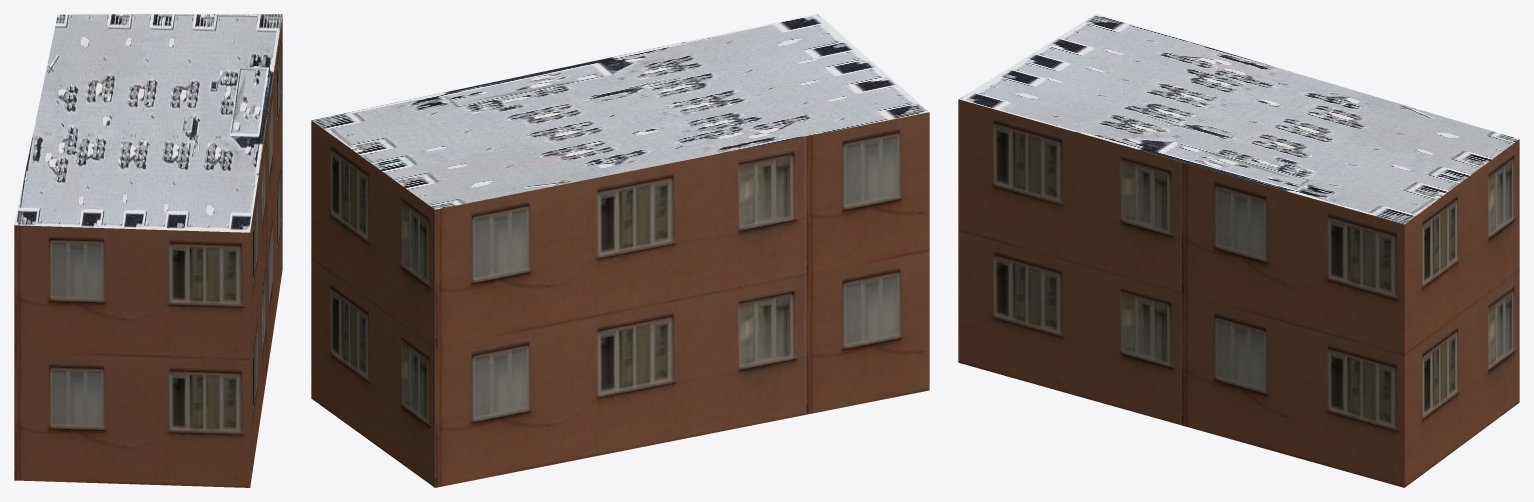
File: ResTex__4978.fbx
The picture shows the model from 3 angles, left to right: view 1: azimuth 30°, elevation 25°; view 2: azimuth 150°, elevation 25°; view 3: azimuth 270°, elevation 25°; orthographic projection. The views are drawn at different scales.
Visible parts, largest first — view 1: CityEngineMaterial_20_m, CityEngineMaterial_8_m; view 2: CityEngineMaterial_20_m, CityEngineMaterial_8_m; view 3: CityEngineMaterial_20_m, CityEngineMaterial_8_m.
Part boxes in pixels (left/top/right/bottom): CityEngineMaterial_20_m: left=14, top=16, right=282, bottom=487; CityEngineMaterial_8_m: left=14, top=14, right=282, bottom=232; CityEngineMaterial_20_m: left=311, top=112, right=929, bottom=487; CityEngineMaterial_8_m: left=311, top=14, right=929, bottom=209; CityEngineMaterial_20_m: left=958, top=99, right=1519, bottom=487; CityEngineMaterial_8_m: left=959, top=14, right=1518, bottom=224.
Size of the model in its own units: 10.28 by 6 by 11.58.
Materials: 2 (2 with a texture image).
